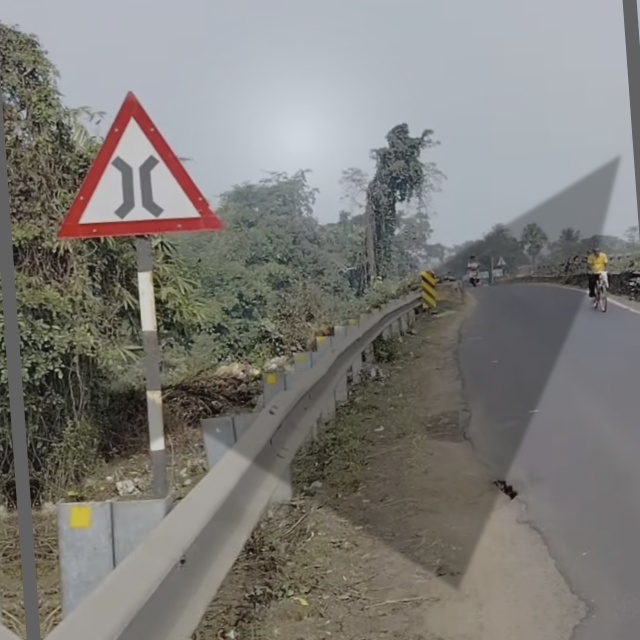Narrow_Bridge: (55, 89, 216, 236)
